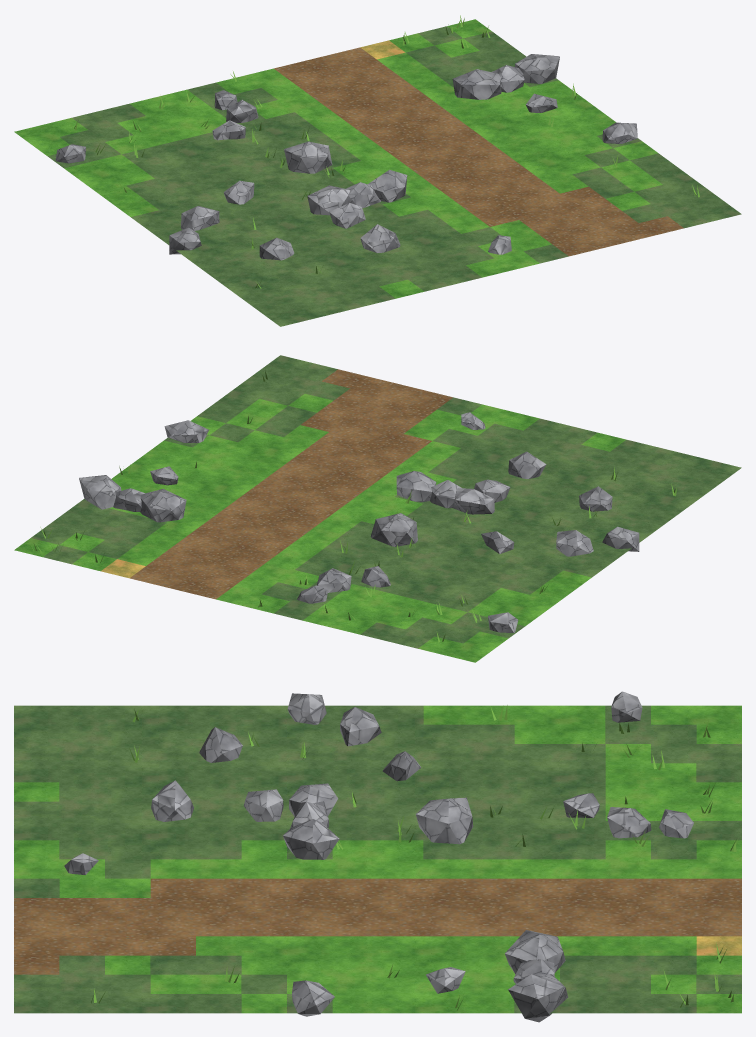
File: chunk_10_14.glb
The picture shows the model from 3 angles, top to bottom: view 1: azimuth 30°, elevation 25°; view 2: azimuth 150°, elevation 25°; view 3: azimuth 270°, elevation 25°; orthographic projection. The views are drawn at different scales.
Visible parts, largest first — view 1: chunk_10_14; view 2: chunk_10_14; view 3: chunk_10_14.
Boxes of the visible parts, box(x1,y1,x2,y2) form: chunk_10_14: box(14, 15, 741, 326); chunk_10_14: box(14, 355, 741, 662); chunk_10_14: box(14, 691, 741, 1022).
Bounding box in the file's own units: 16.49 × 1.33 × 16.
Materials: 6 (5 with a texture image).
